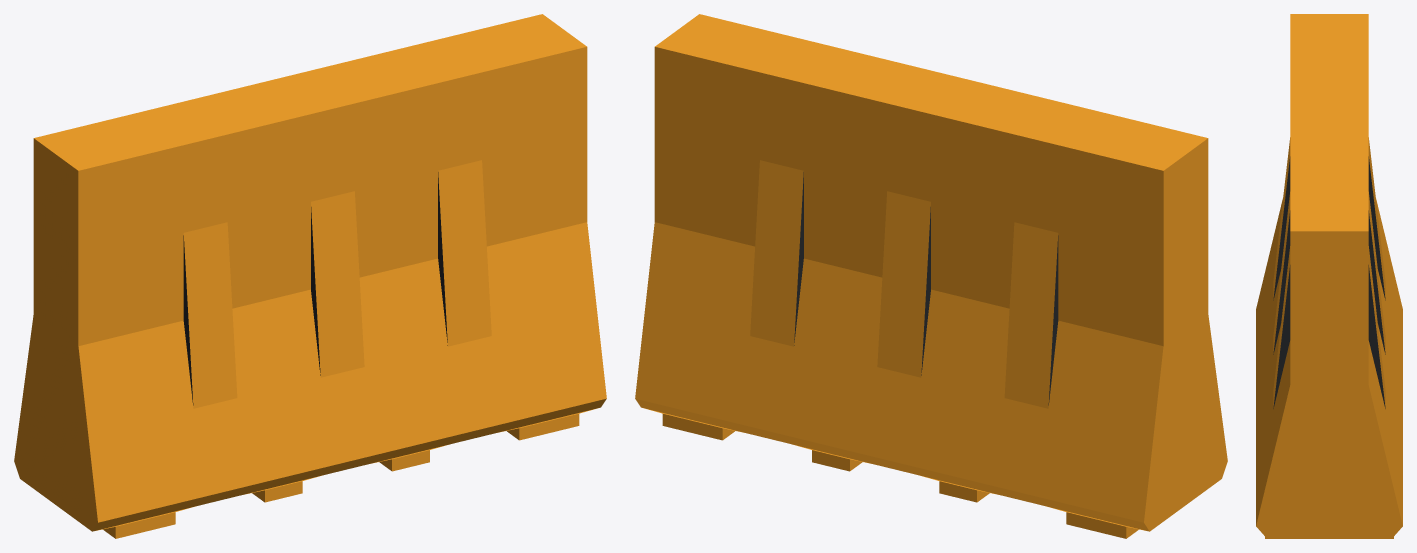
The model's file is TrafficBarrier_4.fbx.
The picture shows the model from 3 angles, left to right: view 1: azimuth 30°, elevation 25°; view 2: azimuth 150°, elevation 25°; view 3: azimuth 270°, elevation 25°; orthographic projection. The views are drawn at different scales.
Visible parts, largest first — view 1: TrafficBarrier_4; view 2: TrafficBarrier_4; view 3: TrafficBarrier_4.
Boxes of the visible parts, x1,y1,x2,y2 form: TrafficBarrier_4: [14, 14, 606, 538]; TrafficBarrier_4: [635, 14, 1227, 538]; TrafficBarrier_4: [1256, 14, 1402, 538].
Size of the model in its own units: 151 by 103 by 43.19.
